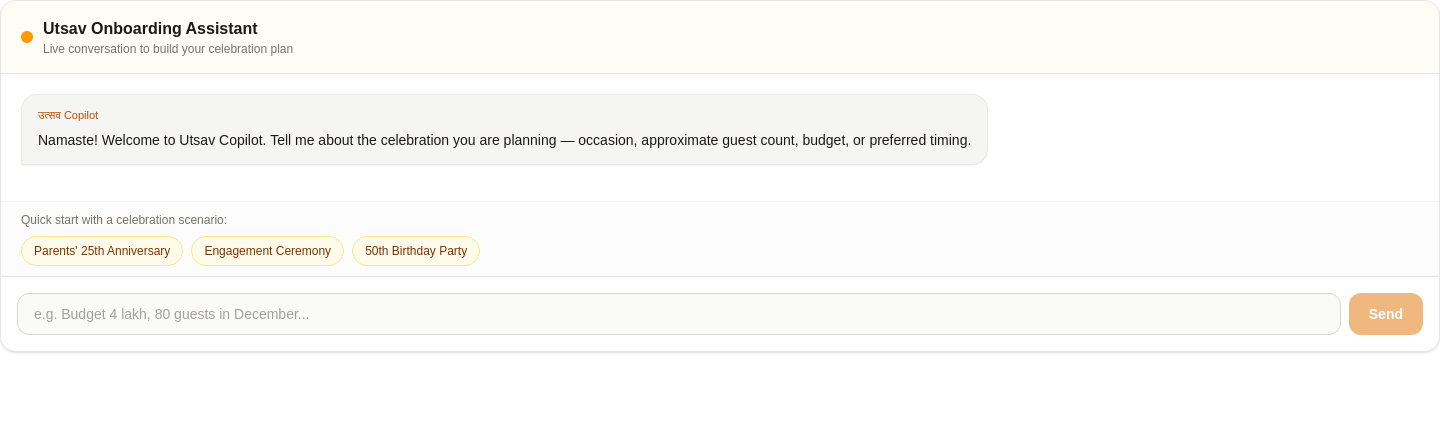
Test: IntakeChat Component › sends user message and updates state on successful /api/intake response
Type "Our budget is 3 lakh" into the field with placeholder "e.g. Budget 4 lakh, 80 guests in December..." at (679, 314), box left=17, top=293, right=1341, bottom=335
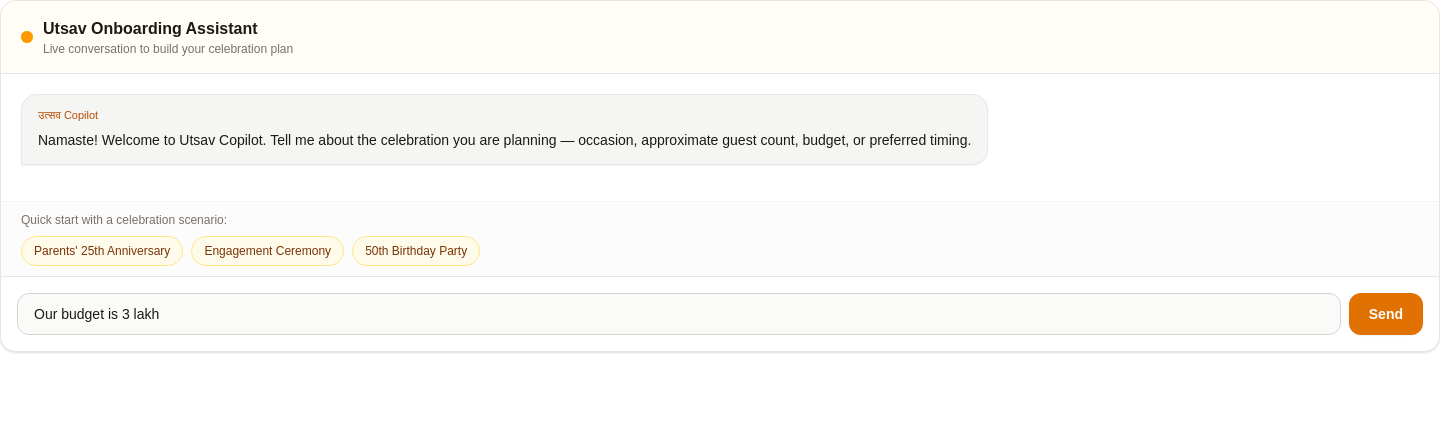
Click the button "Send" at (1386, 314), box left=1349, top=293, right=1423, bottom=335
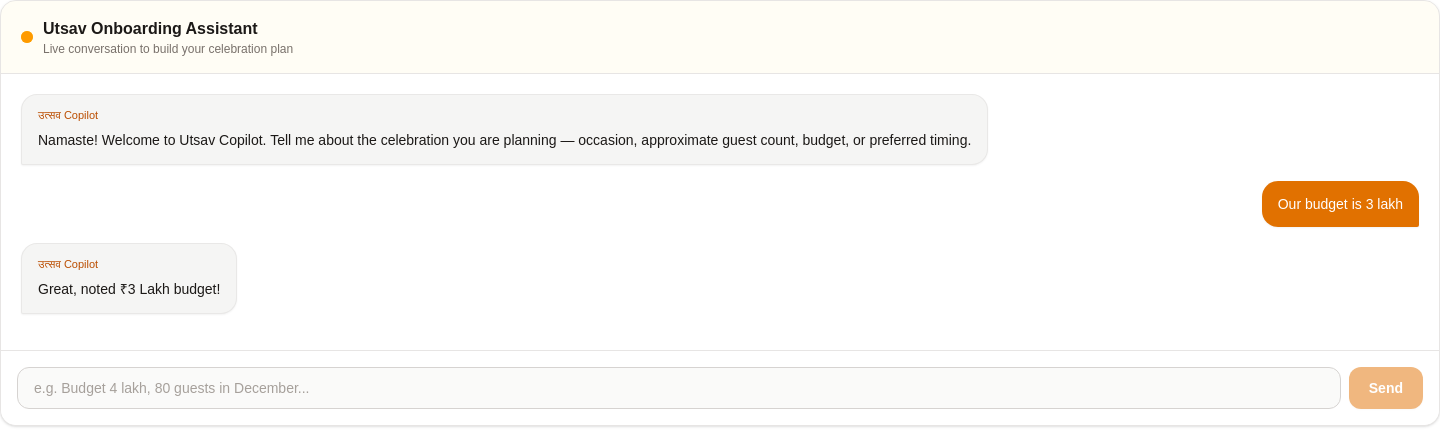
Result: the text "Our budget is 3 lakh" is shown at left=1278, top=193, right=1403, bottom=215
Result: the text "Great, noted ₹3 Lakh budget!" is shown at left=38, top=278, right=220, bottom=301
